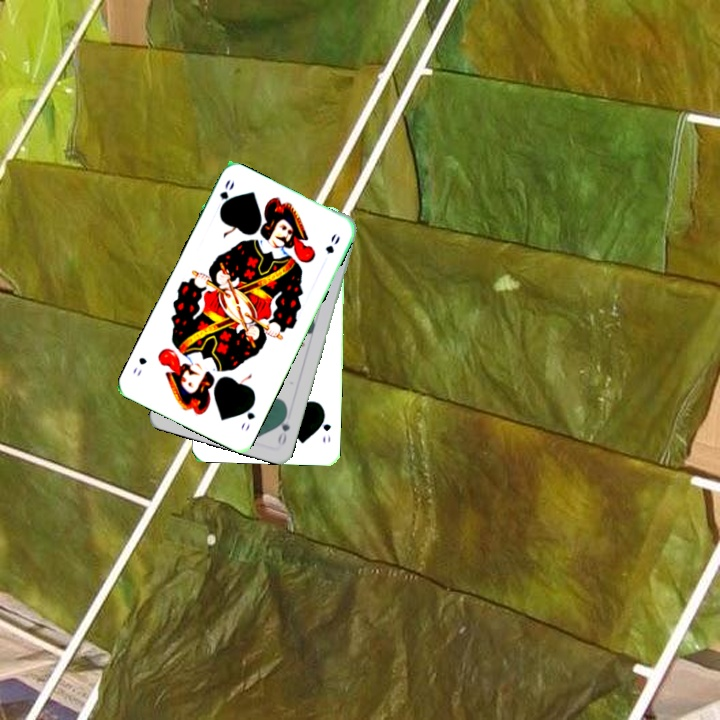GO: (215, 175, 237, 215), (237, 397, 258, 433), (274, 408, 292, 448), (317, 409, 333, 446)
